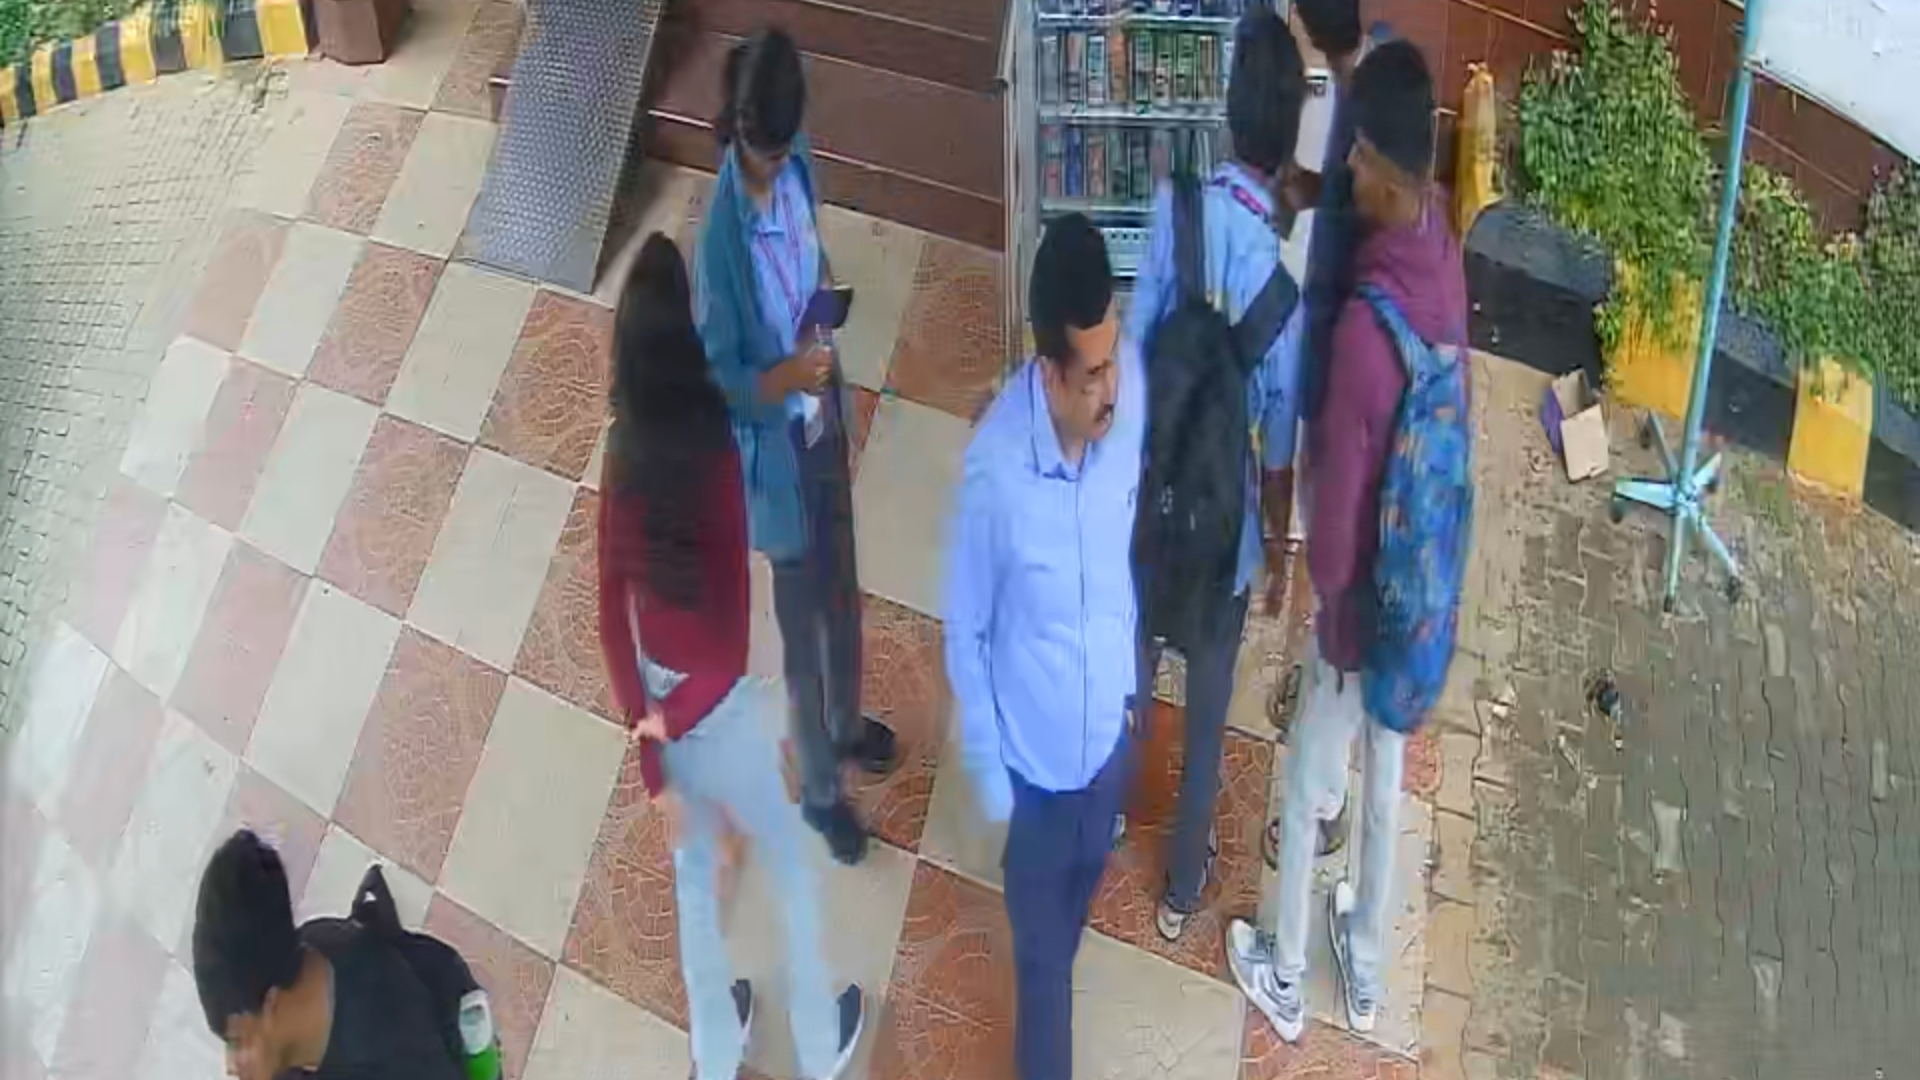intruder: (959, 229, 1143, 1062)
